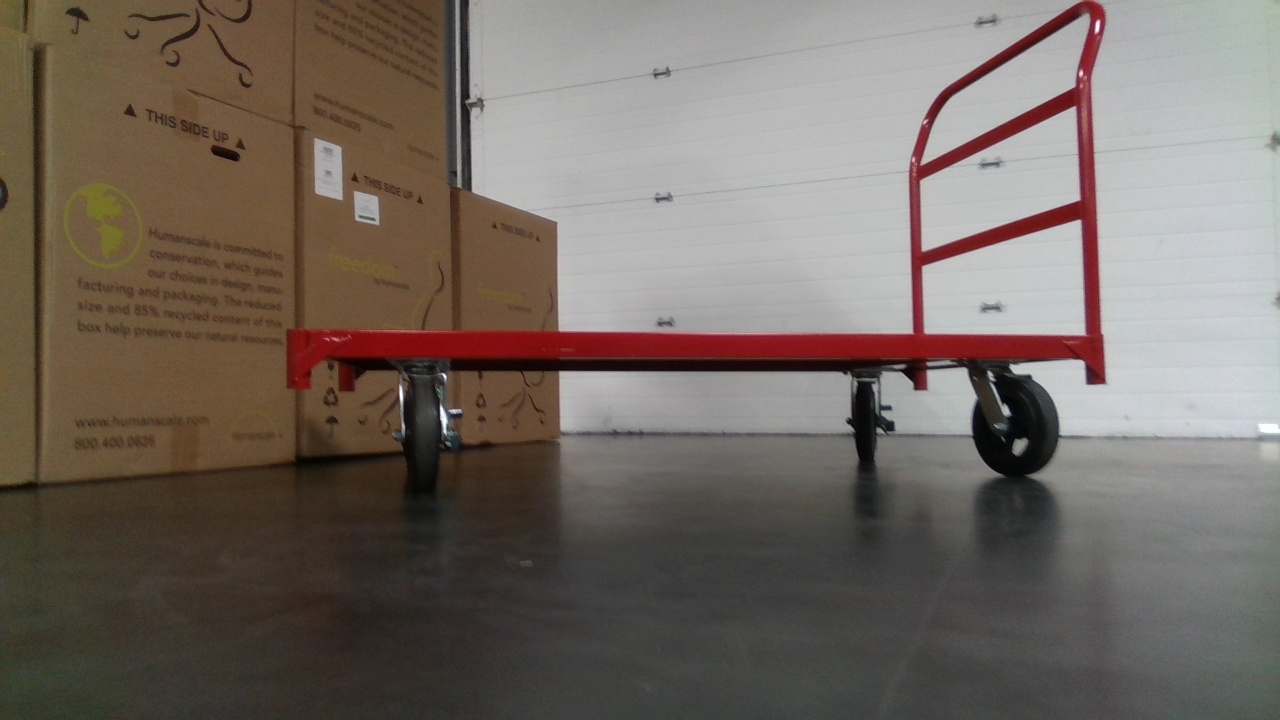Dolly: (278, 1, 1118, 497)
Wheel: (964, 366, 1068, 480), (388, 362, 466, 500), (839, 369, 898, 477)
